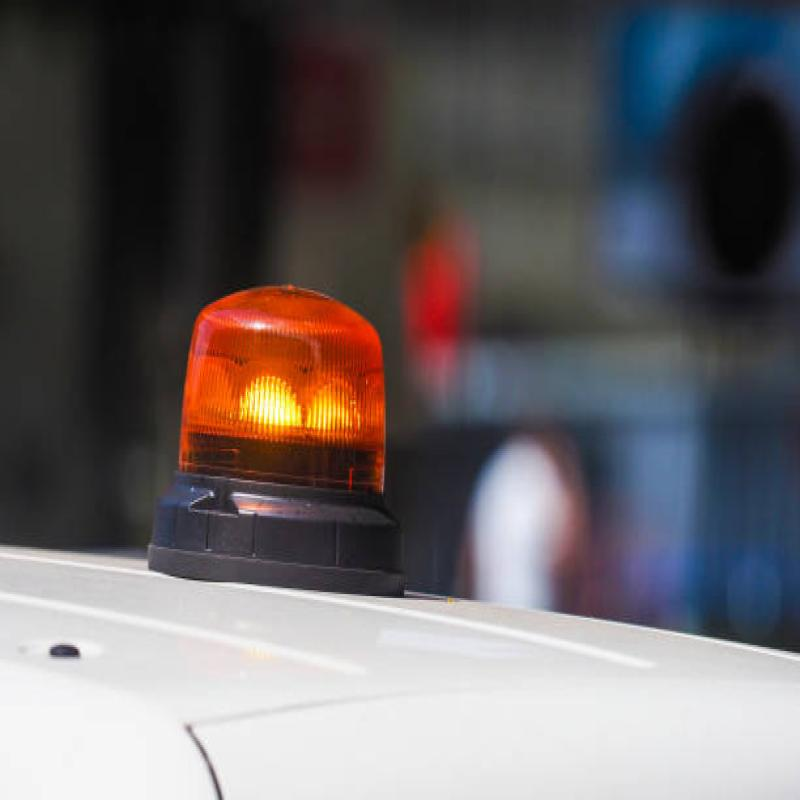AmbulanceSiren: (152, 263, 434, 592)
